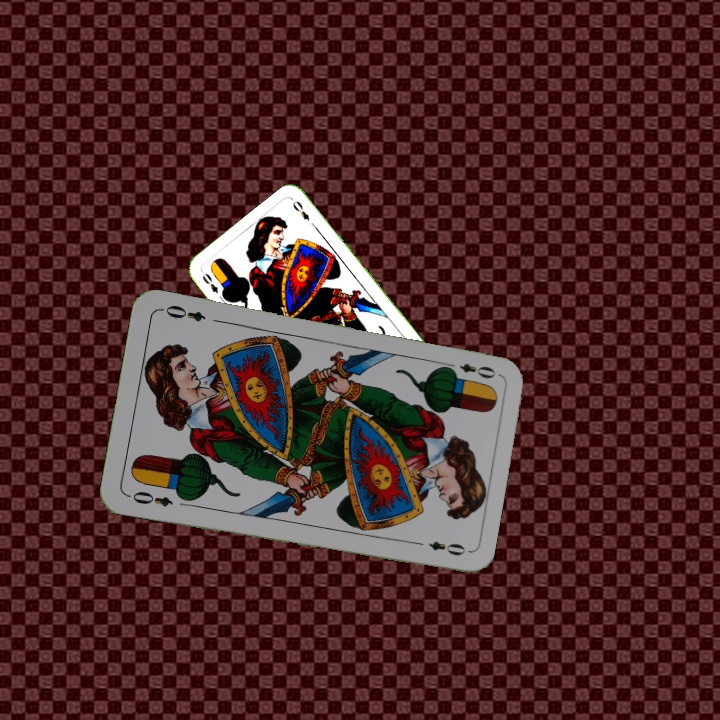EO: (441, 359, 498, 381), (123, 487, 175, 510), (198, 269, 221, 296)
